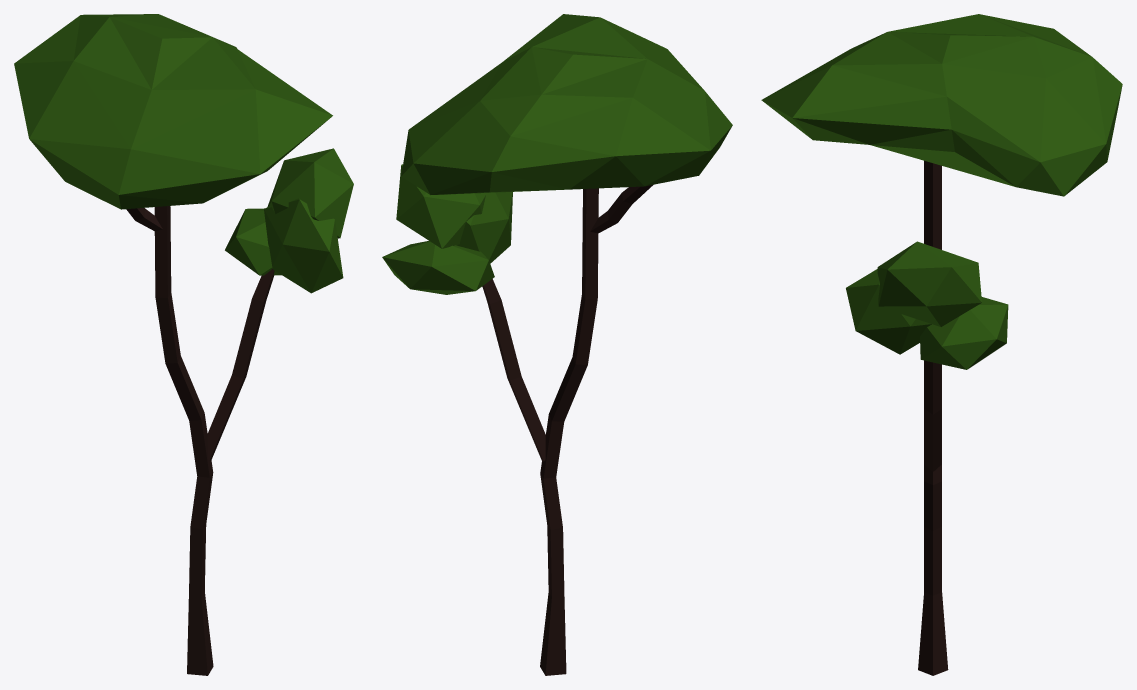
Rendered from SM_tree_c_02.FBX.
3 renders of one model, left to right at view 1: azimuth 30°, elevation 25°; view 2: azimuth 150°, elevation 25°; view 3: azimuth 270°, elevation 25°, orthographic.
Visible parts, largest first — view 1: Object036; view 2: Object036; view 3: Object036.
Boxes of the visible parts, x1,y1,x2,y2 form: Object036: [14, 14, 353, 675]; Object036: [382, 14, 732, 675]; Object036: [761, 14, 1122, 675].
Bounding box in the file's own units: 410 × 794 × 418.
